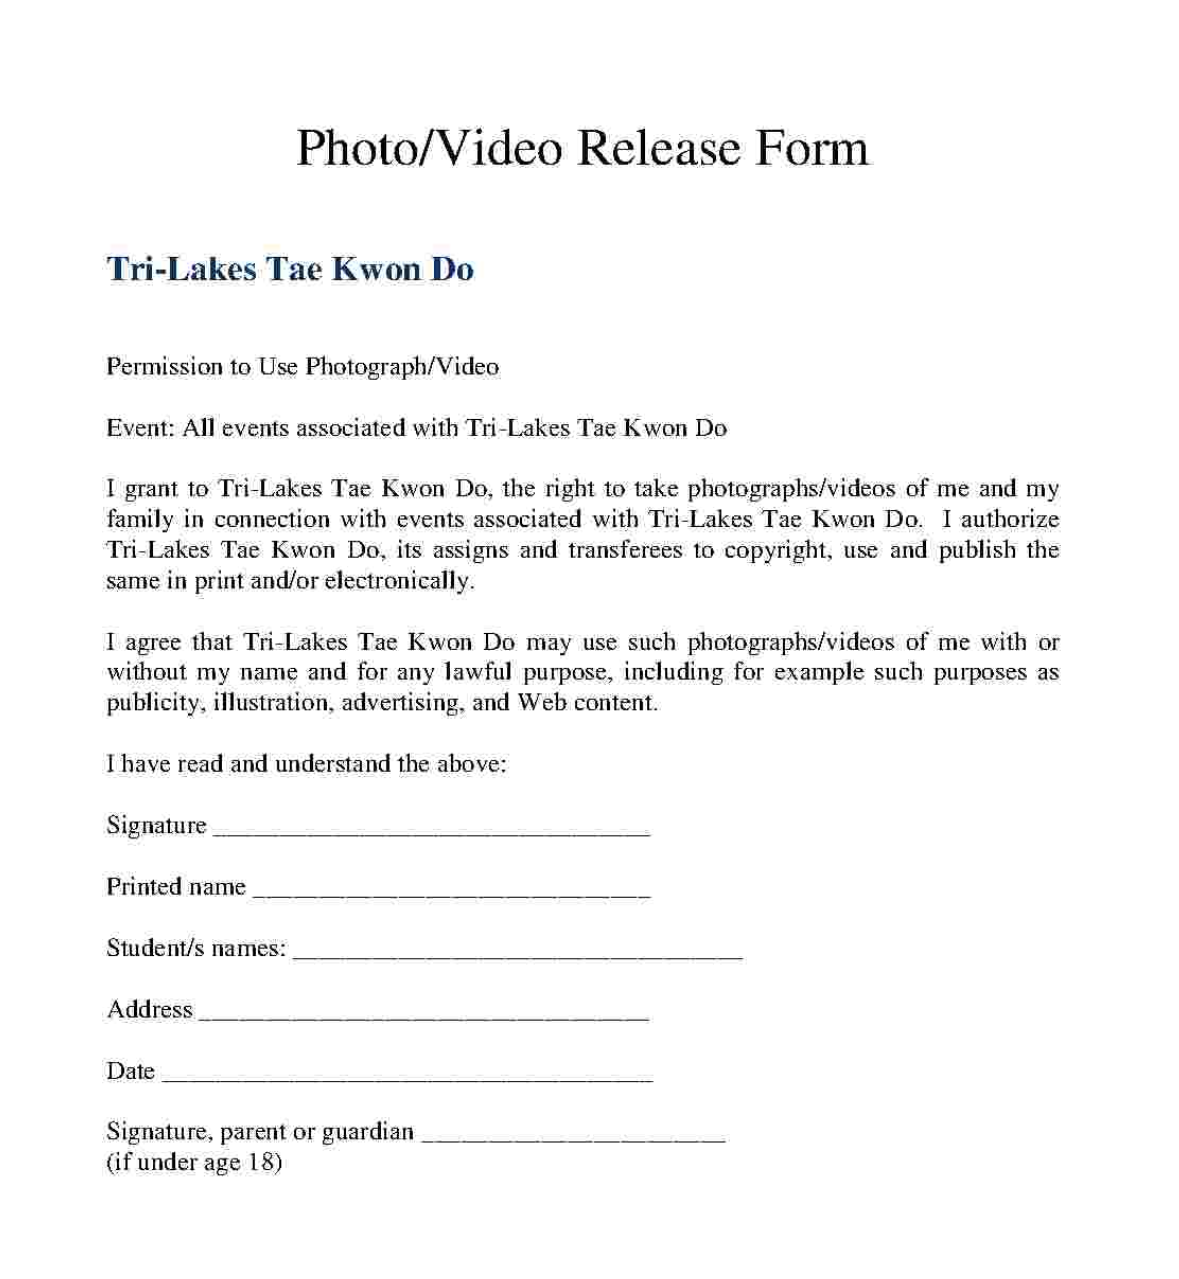textline: (157, 1036, 660, 1094), (195, 972, 660, 1029), (207, 787, 661, 844), (286, 912, 754, 965), (249, 855, 661, 907), (418, 1088, 733, 1149)
